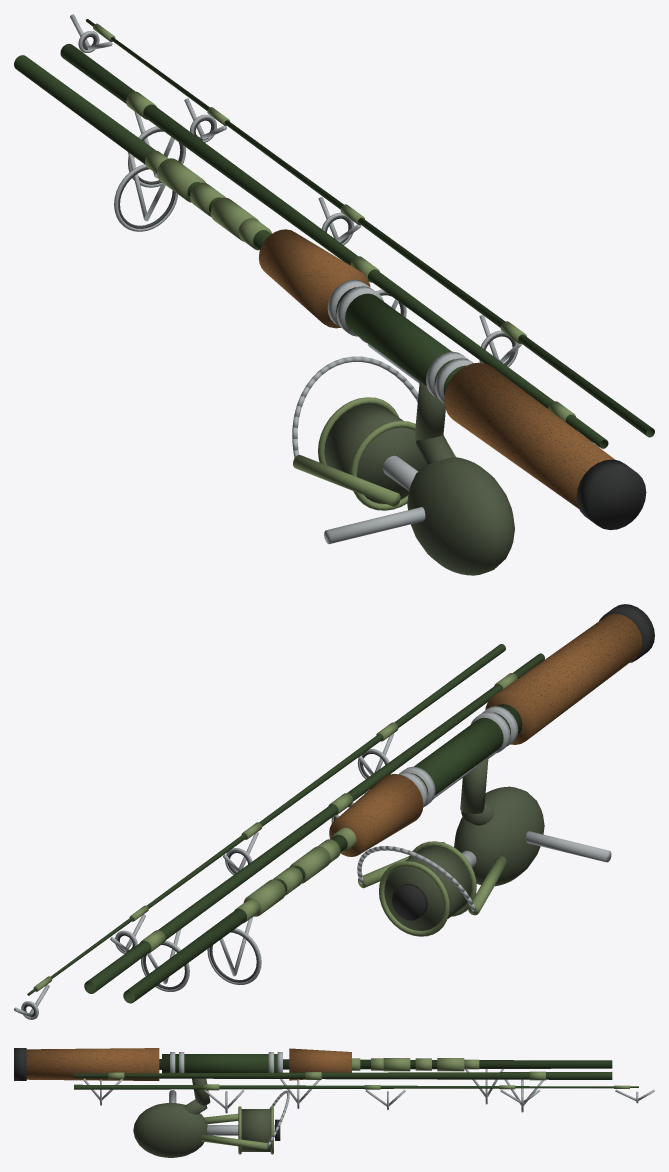
File: willow_folded.glb
3 renders of one model, top to bottom at view 1: azimuth 30°, elevation 25°; view 2: azimuth 150°, elevation 25°; view 3: azimuth 270°, elevation 25°, orthographic. The views are drawn at different scales.
Parts seen in each view (by area): view 1: Folded rod; view 2: Folded rod; view 3: Folded rod.
Boxes of the visible parts, <box> form: Folded rod: <box>14,14,654,575</box>; Folded rod: <box>14,604,654,1019</box>; Folded rod: <box>14,1048,654,1157</box>.
Bounding box in the file's own units: 0.1577 × 0.1315 × 0.7147.
Materials: 8 (1 with a texture image).
